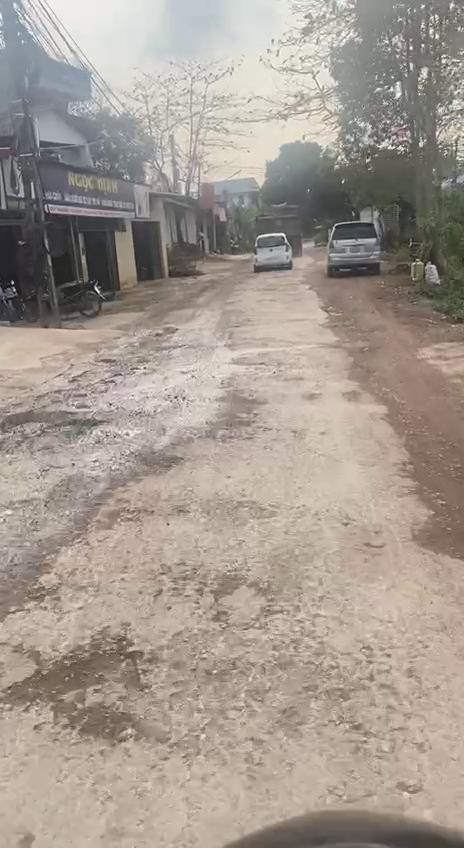pothole: (0, 634, 163, 740), (209, 568, 271, 632)
